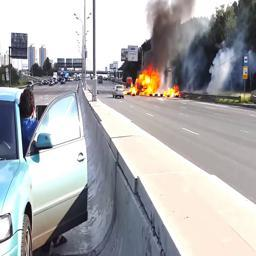fire: (128, 62, 180, 98)
